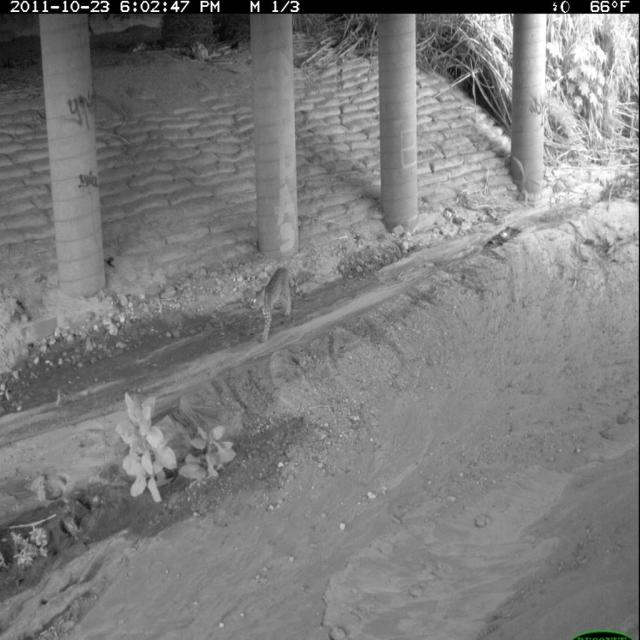bobcat: (251, 264, 299, 347)
